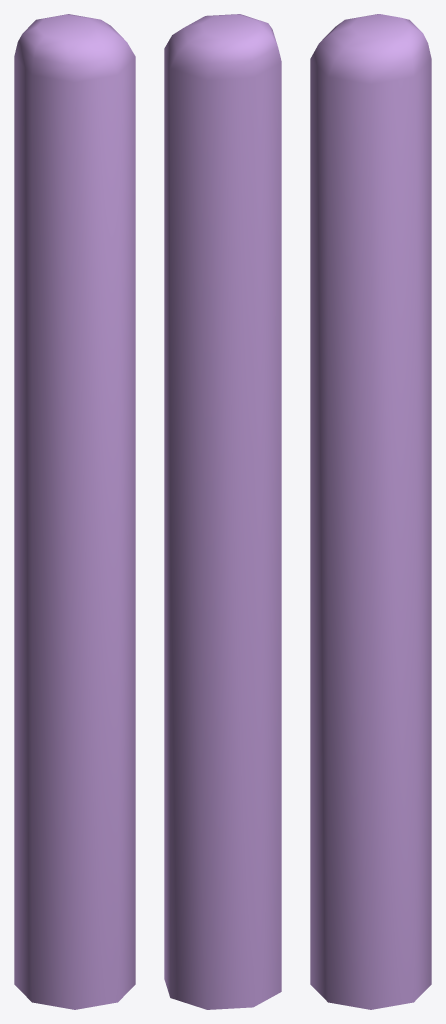
File: G_Background_Tank_C.fbx
3 views of the same model, side by side, from view 1: azimuth 90°, elevation 25°; view 2: azimuth 210°, elevation 25°; view 3: azimuth 270°, elevation 25° (orthographic).
Visible parts, largest first — view 1: G_Background_Tank_C; view 2: G_Background_Tank_C; view 3: G_Background_Tank_C.
Boxes of the visible parts, bbox=[...] form: G_Background_Tank_C: bbox=[14, 14, 135, 1009]; G_Background_Tank_C: bbox=[164, 14, 281, 1009]; G_Background_Tank_C: bbox=[310, 14, 431, 1009].
Bounding box in the file's own units: 200 × 1741 × 200.
